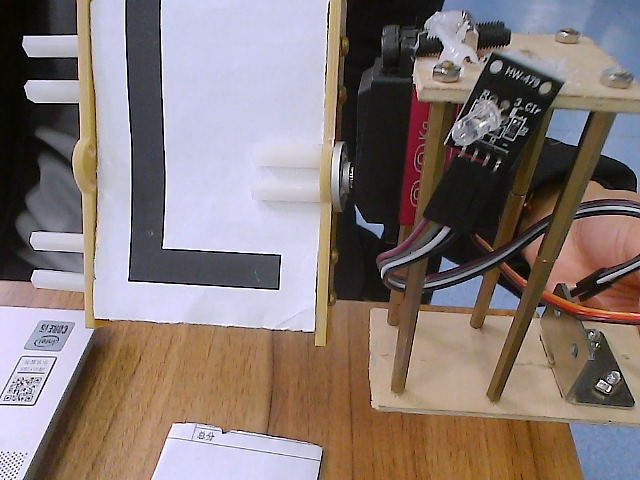L: (18, 1, 363, 362)
